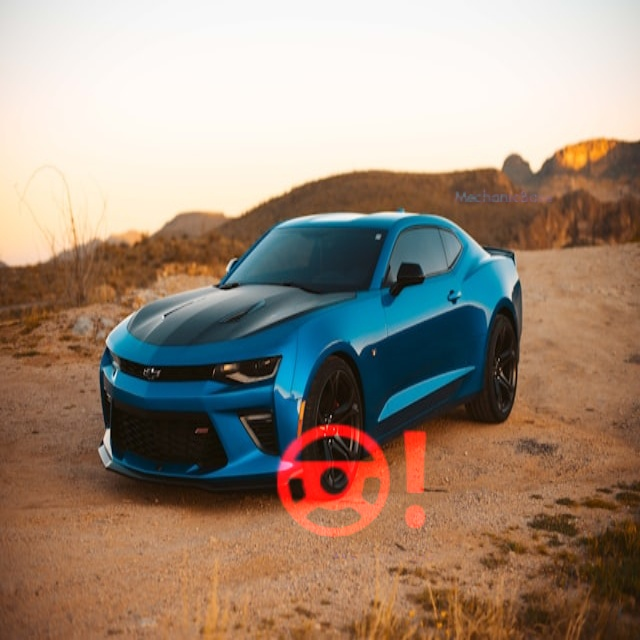symbol: (263, 393, 442, 572), (387, 39, 559, 211)
